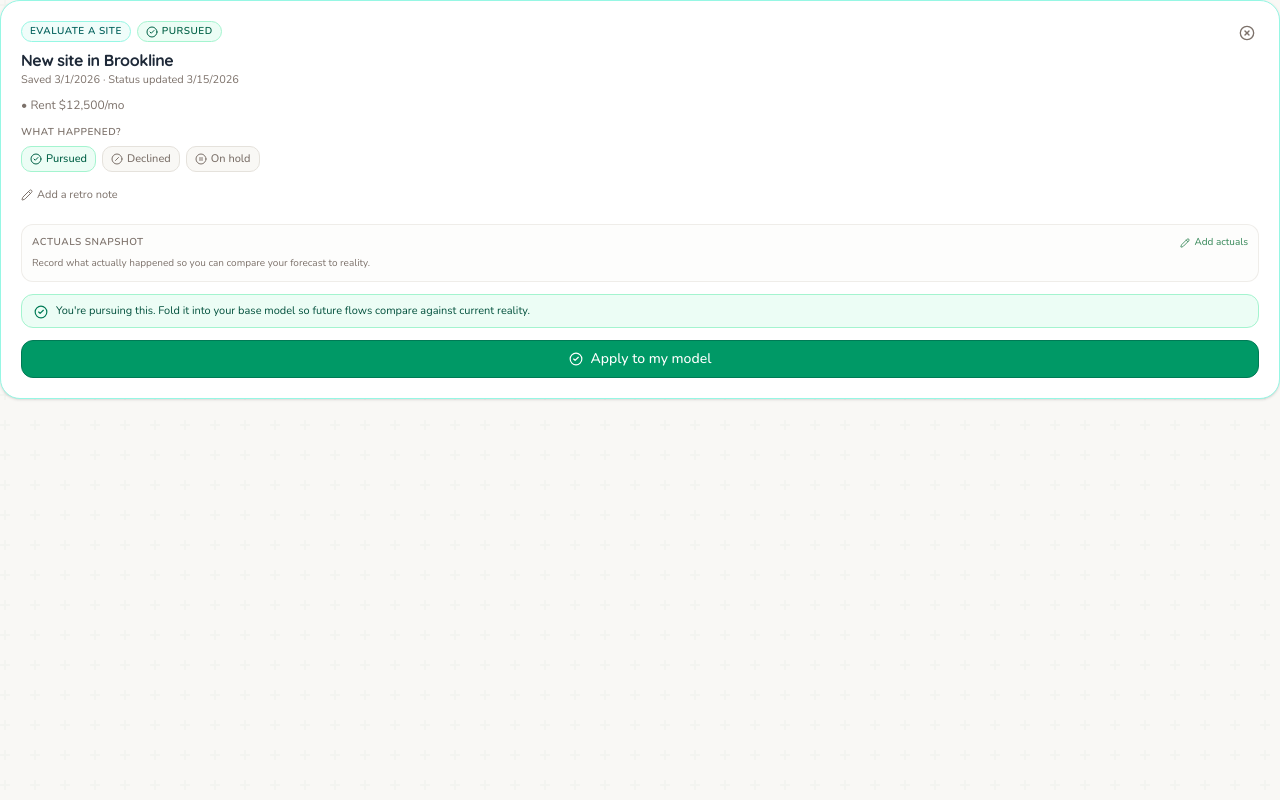
Scenario: CustomScenarioCard — un-mapped revenue/expense gap chips (Task #495) › renders Other revenue / Other expense chips when category subtotals fall short of the headline by 10%+
Click the button with test id "custom-scenario-actuals-edit-0".
click(1214, 242)  # box [1180,235,1248,250]
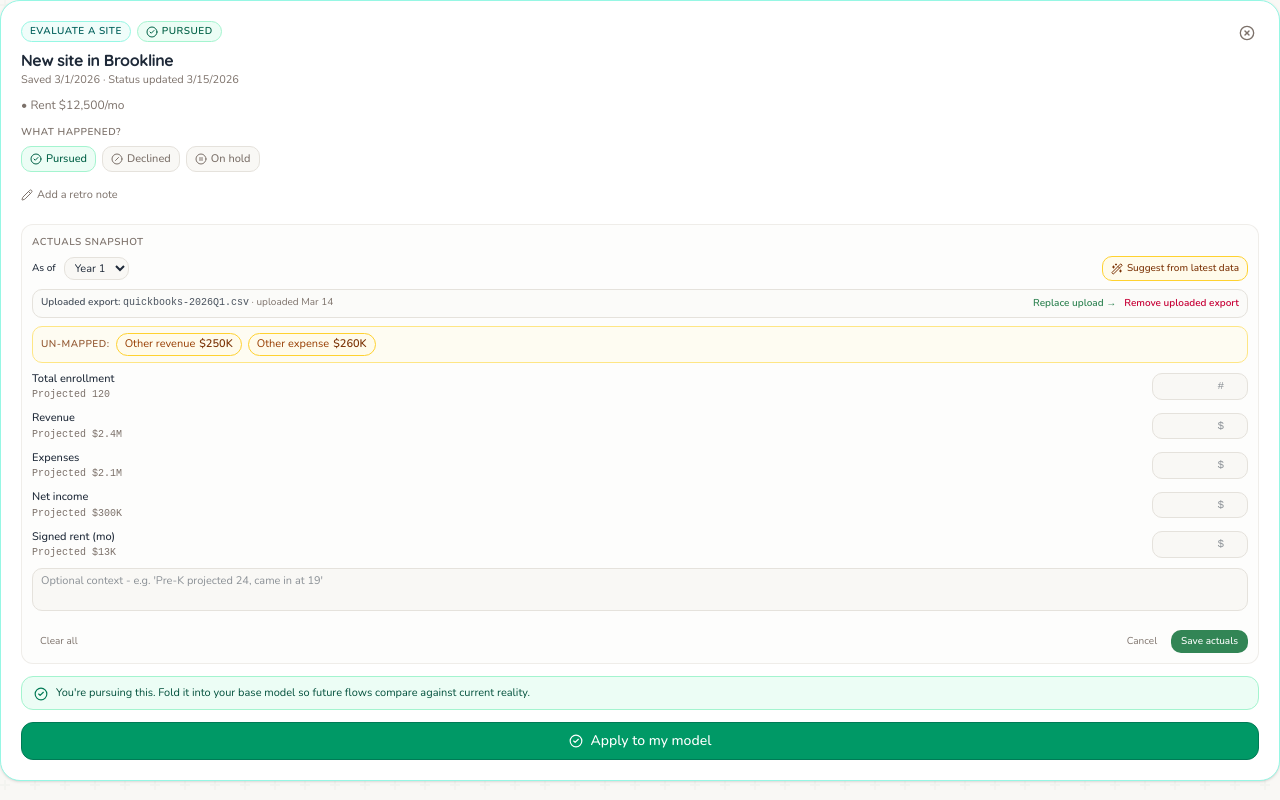
Expected: the element with test id "custom-scenario-actuals-export-gap-0" is shown, [32,326,1248,362]
Expected: the element with test id "custom-scenario-actuals-export-gap-0" shows "Un-mapped", [41,337,110,351]
Expected: the element with test id "custom-scenario-actuals-export-gap-revenue-0" shows "Other revenue", [125,336,195,351]
